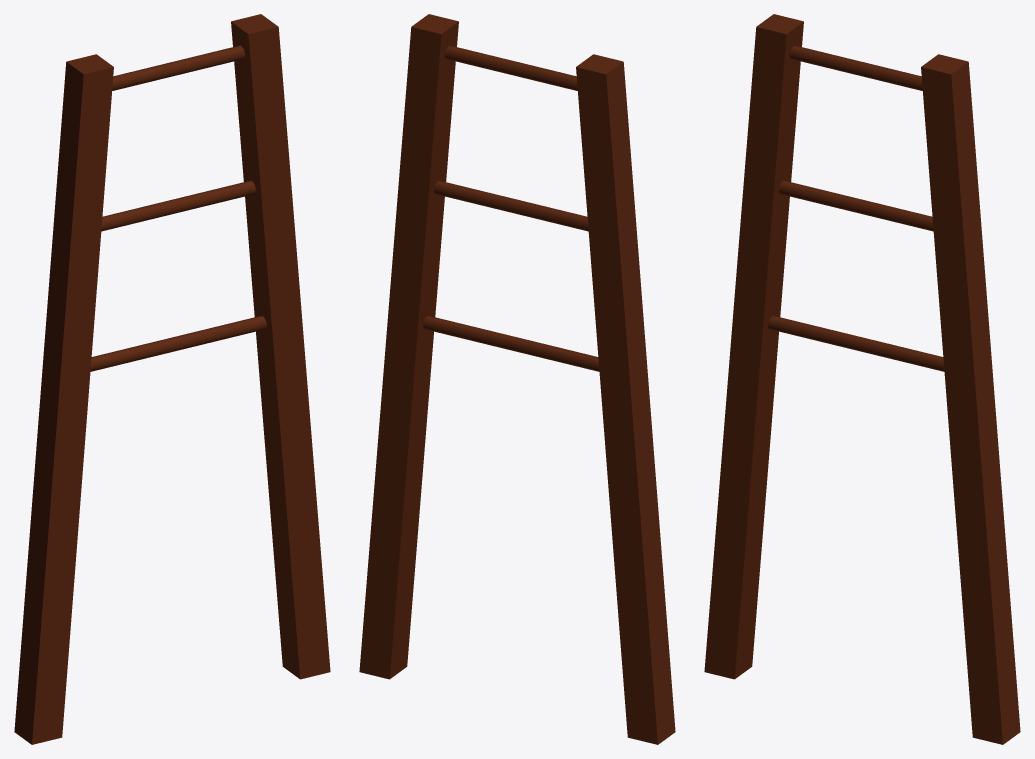
The model's file is ladder.fbx.
The picture shows the model from 3 angles, left to right: view 1: azimuth 30°, elevation 25°; view 2: azimuth 150°, elevation 25°; view 3: azimuth 330°, elevation 25°; orthographic projection.
Visible parts, largest first — view 1: 사다리나무.002; view 2: 사다리나무.002; view 3: 사다리나무.002.
Part boxes in pixels (<box>): 사다리나무.002: <box>14,14,330,744</box>; 사다리나무.002: <box>359,14,675,744</box>; 사다리나무.002: <box>704,14,1020,744</box>.
Size of the model in its own units: 69.35 by 146 by 7.05.
Materials: 1 (1 with a texture image).
